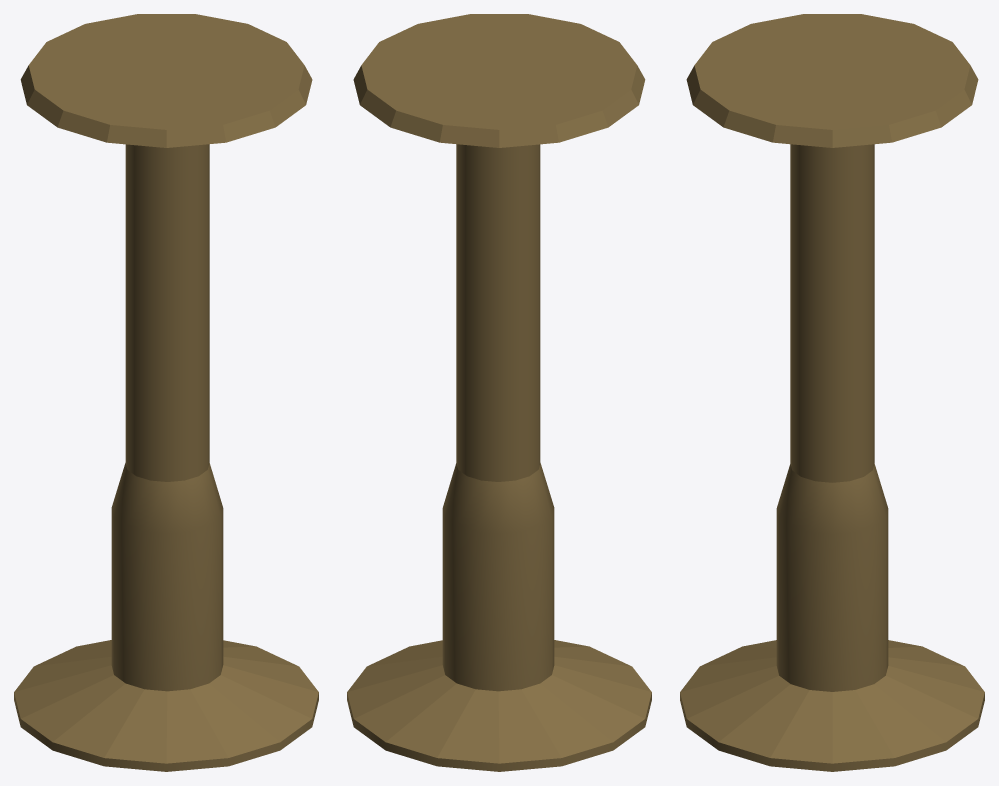
The model's file is lamp_lp.fbx.
3 views of the same model, side by side, from view 1: azimuth 30°, elevation 25°; view 2: azimuth 150°, elevation 25°; view 3: azimuth 270°, elevation 25° (orthographic).
Parts seen in each view (by area): view 1: tableLamp_lp; view 2: tableLamp_lp; view 3: tableLamp_lp.
Boxes of the visible parts, x1=… form: tableLamp_lp: x1=14, y1=14, x2=318, y2=771; tableLamp_lp: x1=347, y1=14, x2=651, y2=771; tableLamp_lp: x1=680, y1=14, x2=984, y2=771.
Size of the model in its own units: 0.0864 by 0.2 by 0.0869.
